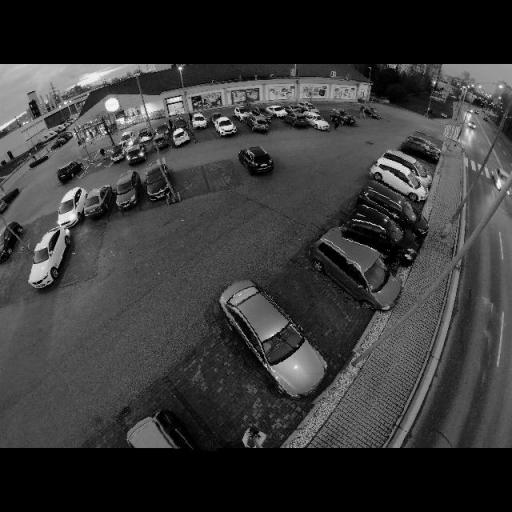busy: (204, 278, 345, 402), (301, 225, 400, 308), (340, 206, 418, 262), (118, 408, 220, 450), (28, 228, 74, 286), (368, 164, 430, 198), (358, 190, 420, 220), (110, 171, 146, 210), (140, 164, 176, 202), (238, 146, 280, 176), (57, 187, 84, 226), (1, 222, 23, 269), (378, 152, 426, 172), (82, 188, 112, 218), (400, 140, 438, 162), (55, 160, 87, 184), (213, 115, 240, 138), (302, 112, 333, 132), (241, 114, 271, 134), (327, 109, 356, 128), (125, 146, 150, 166), (172, 127, 194, 148), (285, 113, 310, 130), (189, 114, 211, 131), (266, 104, 288, 120), (285, 100, 309, 114), (110, 147, 128, 165), (360, 106, 381, 120), (153, 136, 172, 150)
free: (190, 369, 268, 418), (283, 282, 343, 321), (74, 232, 100, 282), (10, 257, 32, 301), (29, 214, 49, 244), (210, 168, 238, 186), (178, 174, 204, 191), (271, 118, 289, 134), (197, 131, 216, 141)
